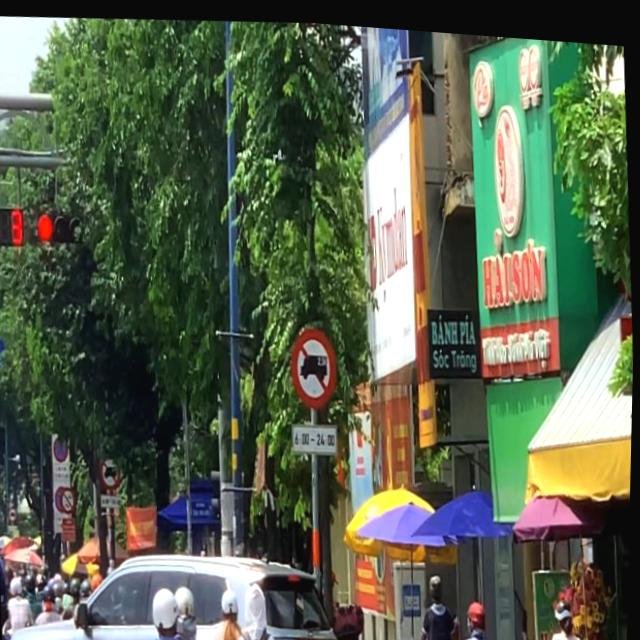Cam xe tai tren 2_5: (290, 320, 341, 408), (100, 449, 124, 490)
